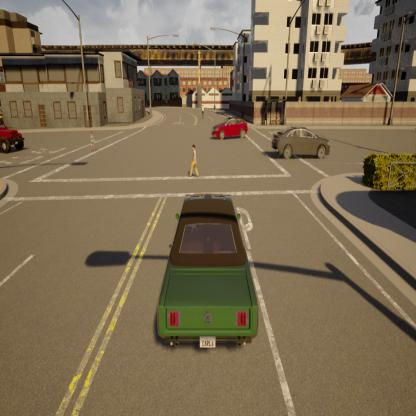Cars: (153, 184, 264, 360), (269, 122, 337, 164), (209, 112, 251, 144), (0, 112, 28, 160)
Pedestrian: (188, 142, 202, 182), (86, 128, 98, 156)
